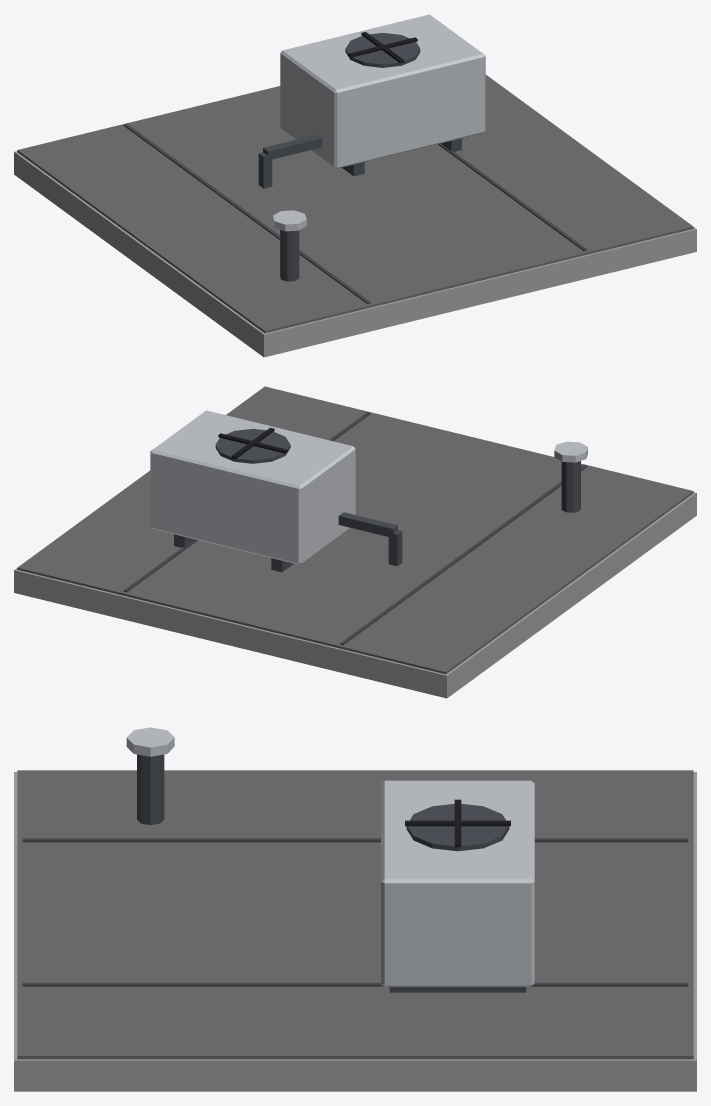
Rendered from Store24_Roof_Flat_4m.glb.
The picture shows the model from 3 angles, top to bottom: view 1: azimuth 30°, elevation 25°; view 2: azimuth 150°, elevation 25°; view 3: azimuth 270°, elevation 25°; orthographic projection. The views are drawn at different scales.
Visible parts, largest first — view 1: Store24_Roof_Flat_4m; view 2: Store24_Roof_Flat_4m; view 3: Store24_Roof_Flat_4m.
Boxes of the visible parts, x1,y1,x2,y2 form: Store24_Roof_Flat_4m: [14, 14, 696, 357]; Store24_Roof_Flat_4m: [14, 386, 696, 698]; Store24_Roof_Flat_4m: [14, 727, 696, 1091].
Bounding box in the file's own units: 4 × 1.09 × 4.
1 material, 1 textured.
